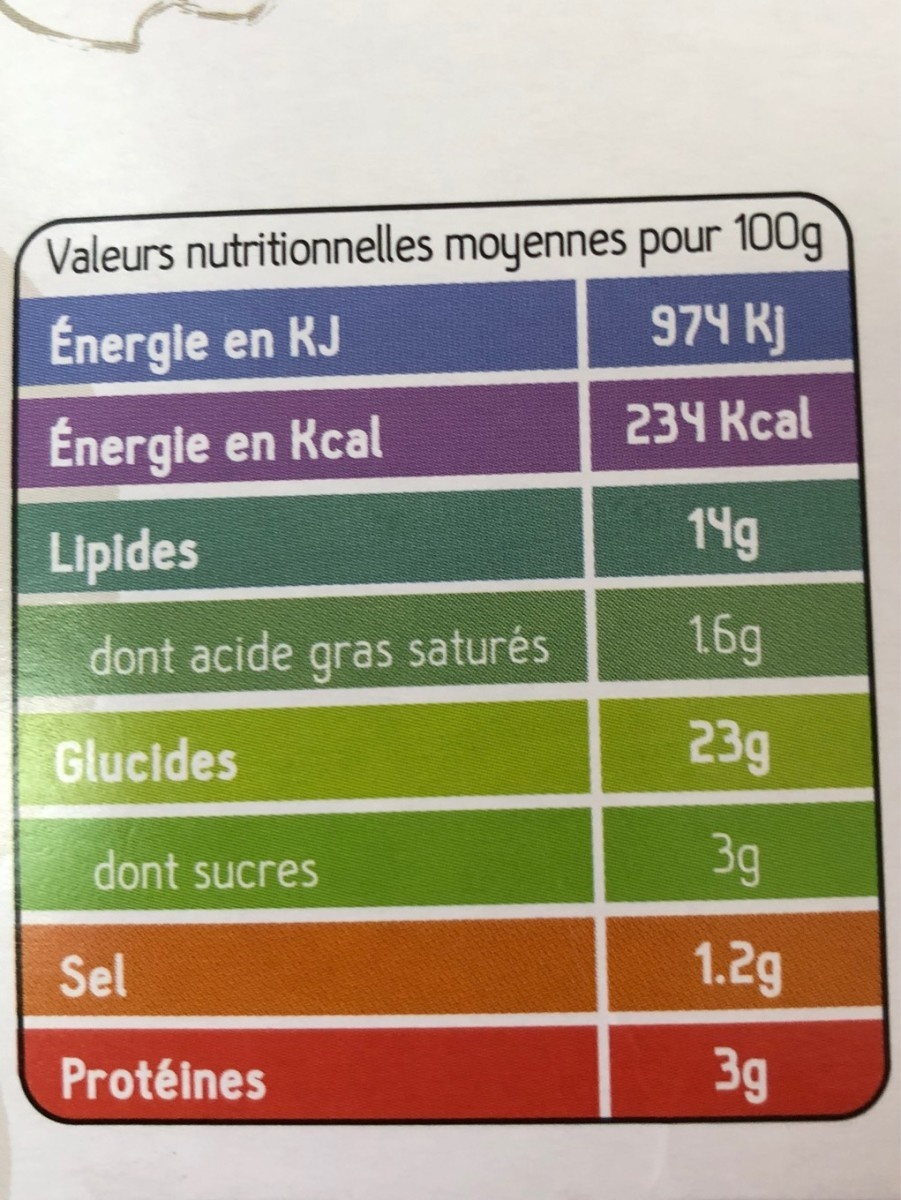column: (45, 301, 548, 1110), (627, 294, 817, 1117)
table: (7, 188, 893, 1134)
